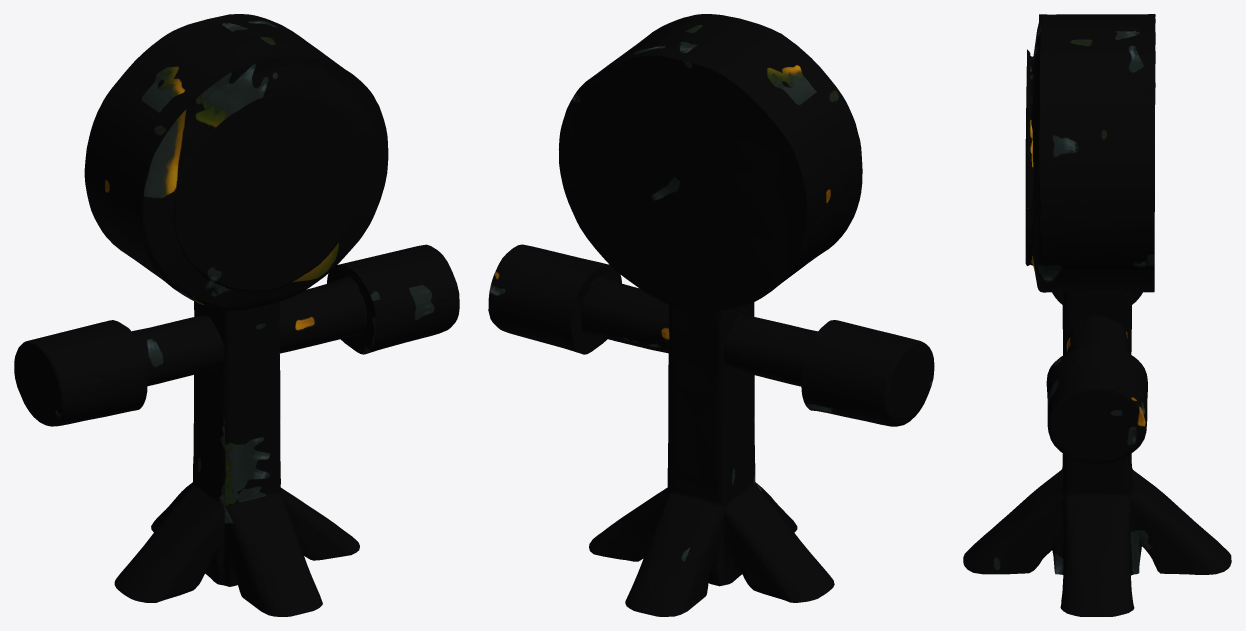
File: stationryfbx.fbx
The picture shows the model from 3 angles, left to right: view 1: azimuth 30°, elevation 25°; view 2: azimuth 150°, elevation 25°; view 3: azimuth 270°, elevation 25°; orthographic projection.
Visible parts, largest first — view 1: geometry_0.002_Baked; view 2: geometry_0.002_Baked; view 3: geometry_0.002_Baked.
Boxes of the visible parts, bbox=[...] form: geometry_0.002_Baked: bbox=[14, 14, 459, 616]; geometry_0.002_Baked: bbox=[488, 14, 934, 616]; geometry_0.002_Baked: bbox=[963, 14, 1231, 616].
Size of the model in its own units: 239 by 300 by 137.
